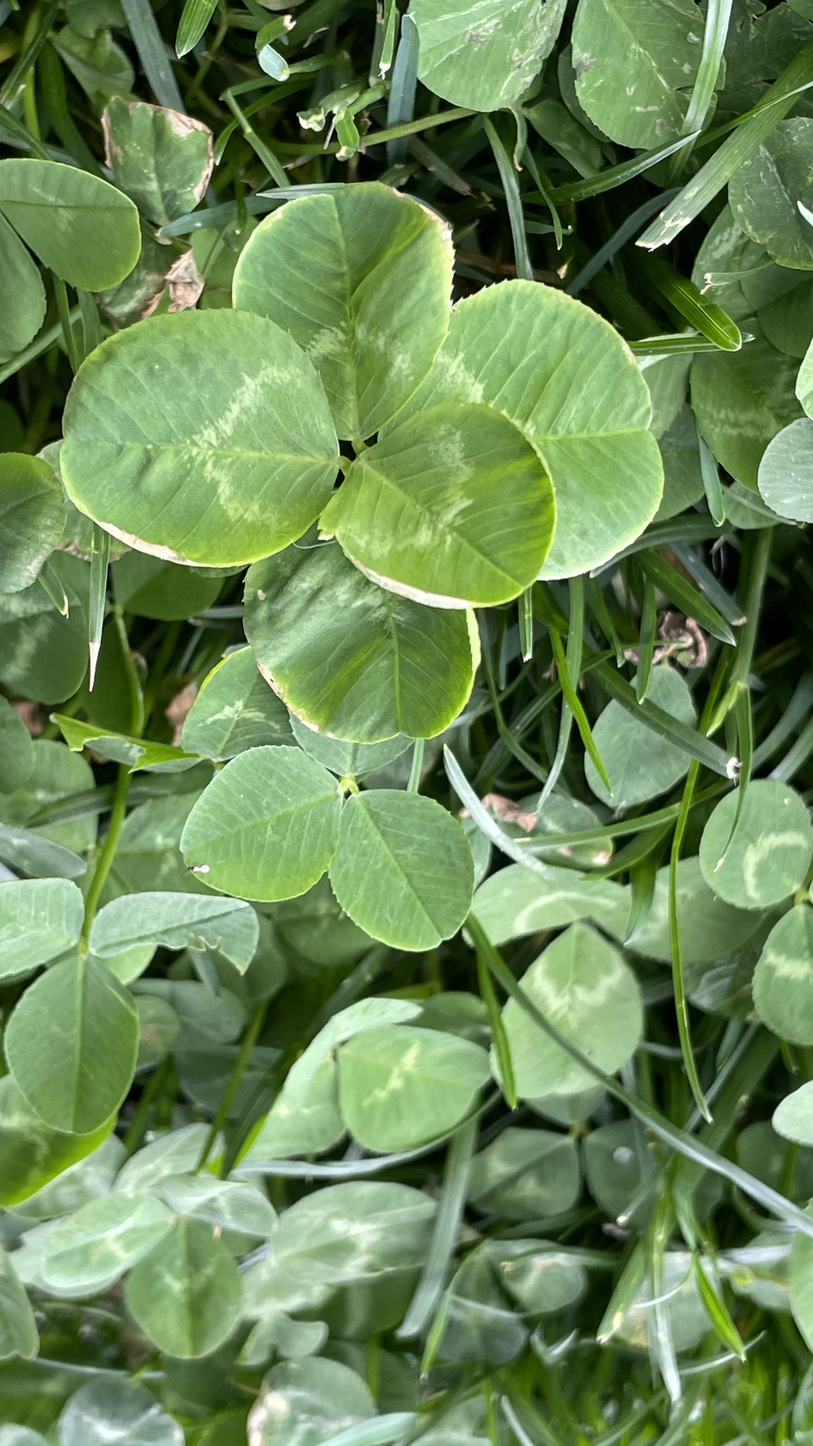5-Leaf-Clovers: (101, 255, 417, 1337)
